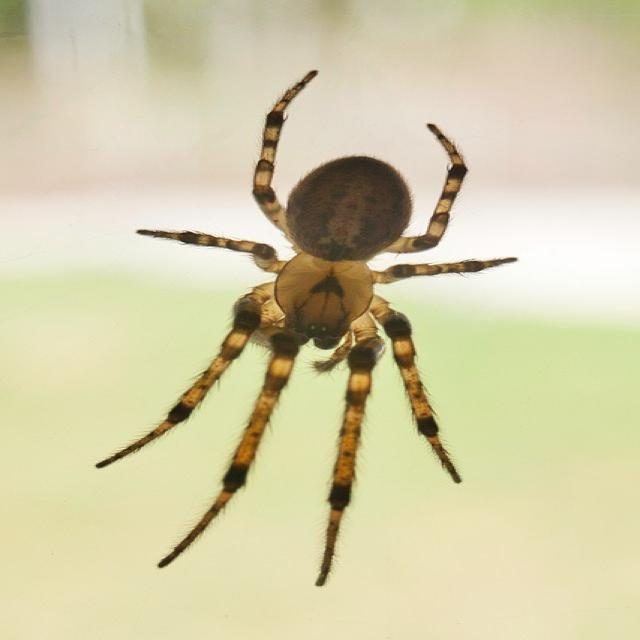spyder: (97, 71, 515, 584)
